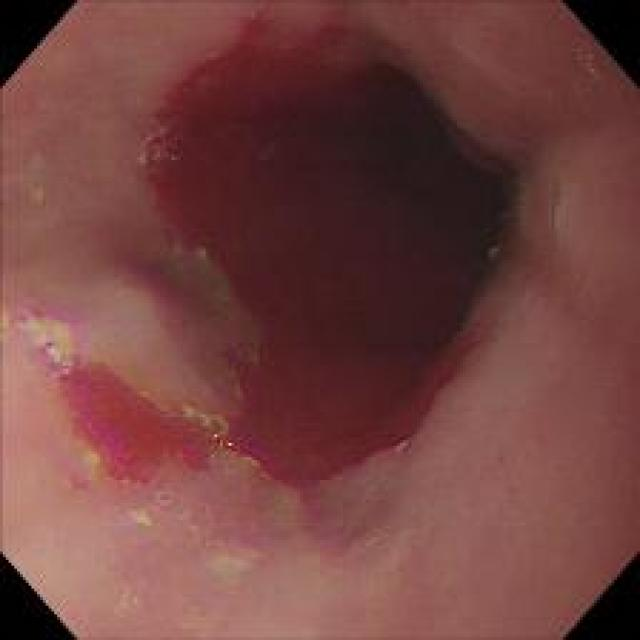color misalignment: (130, 112, 182, 182), (190, 240, 219, 264), (150, 479, 172, 505), (482, 242, 504, 264)
contrast: (219, 48, 536, 399)
